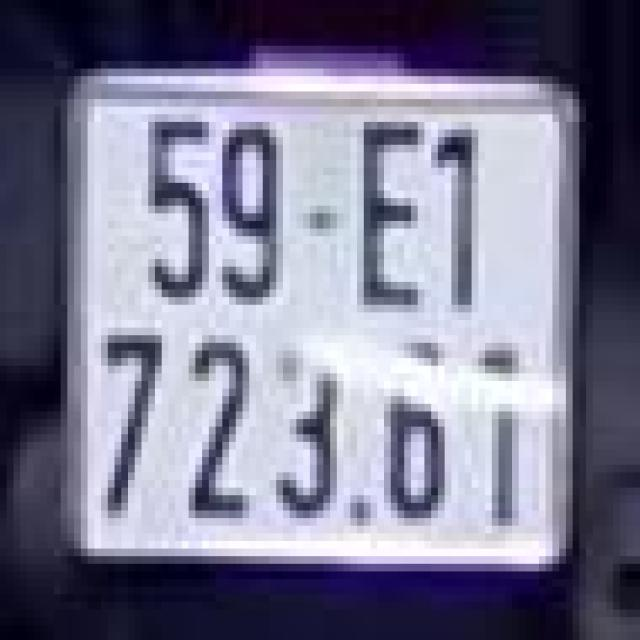1: (465, 339, 539, 545), (431, 114, 492, 328)
2: (178, 316, 260, 522)
3: (270, 331, 350, 522)
5: (131, 107, 219, 312)
6: (377, 335, 458, 526)
7: (91, 316, 172, 530)
9: (212, 114, 300, 320)
E: (350, 114, 438, 320)
